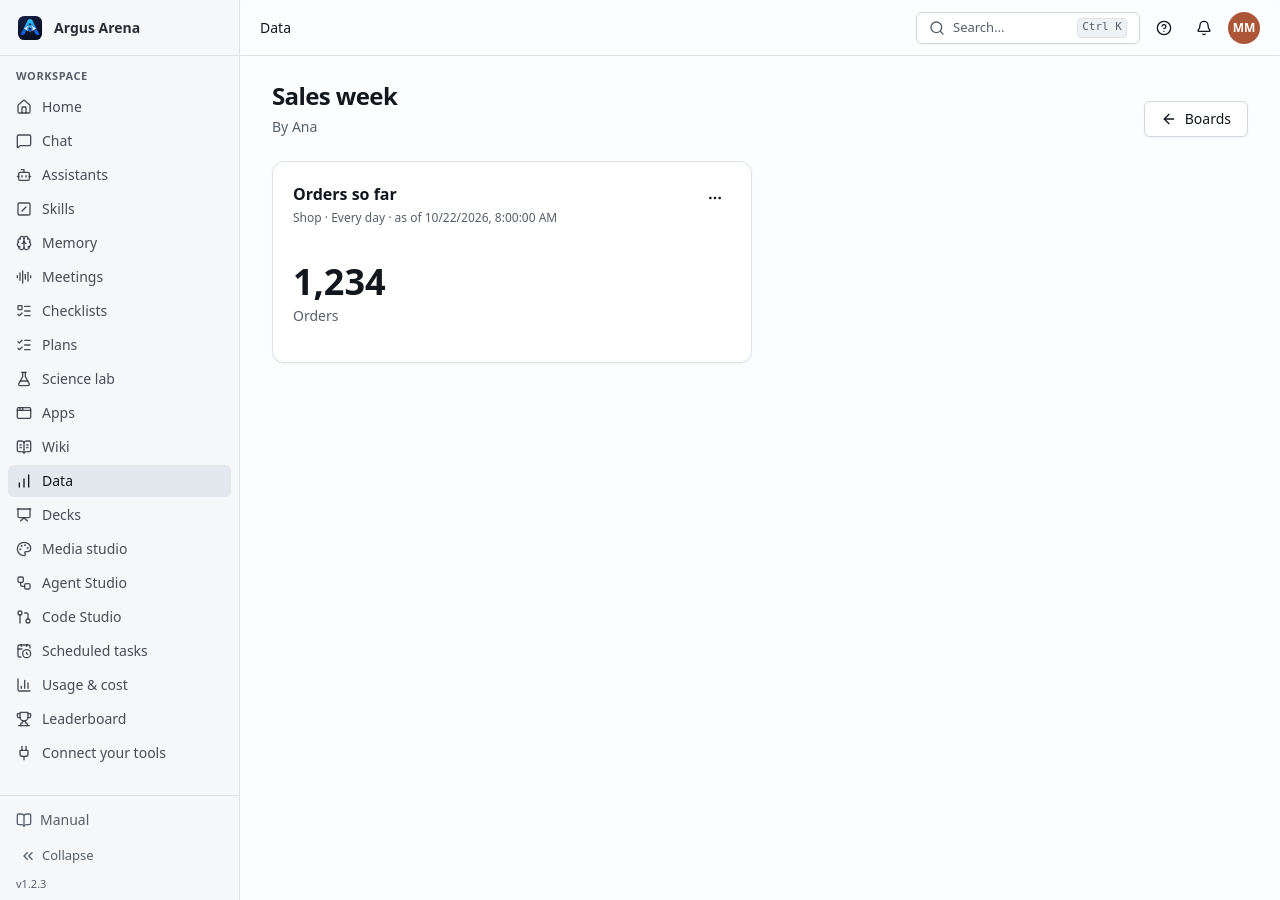
Test: ask your data › a board of someone else shows its charts, without its owner's controls
The width and height of the screenshot is (1280, 900).
Expected: the text "By Ana" is shown, [272,117,317,136]
Click the button named "More for Orders so far" at (715, 198), box [699,182,731,214]
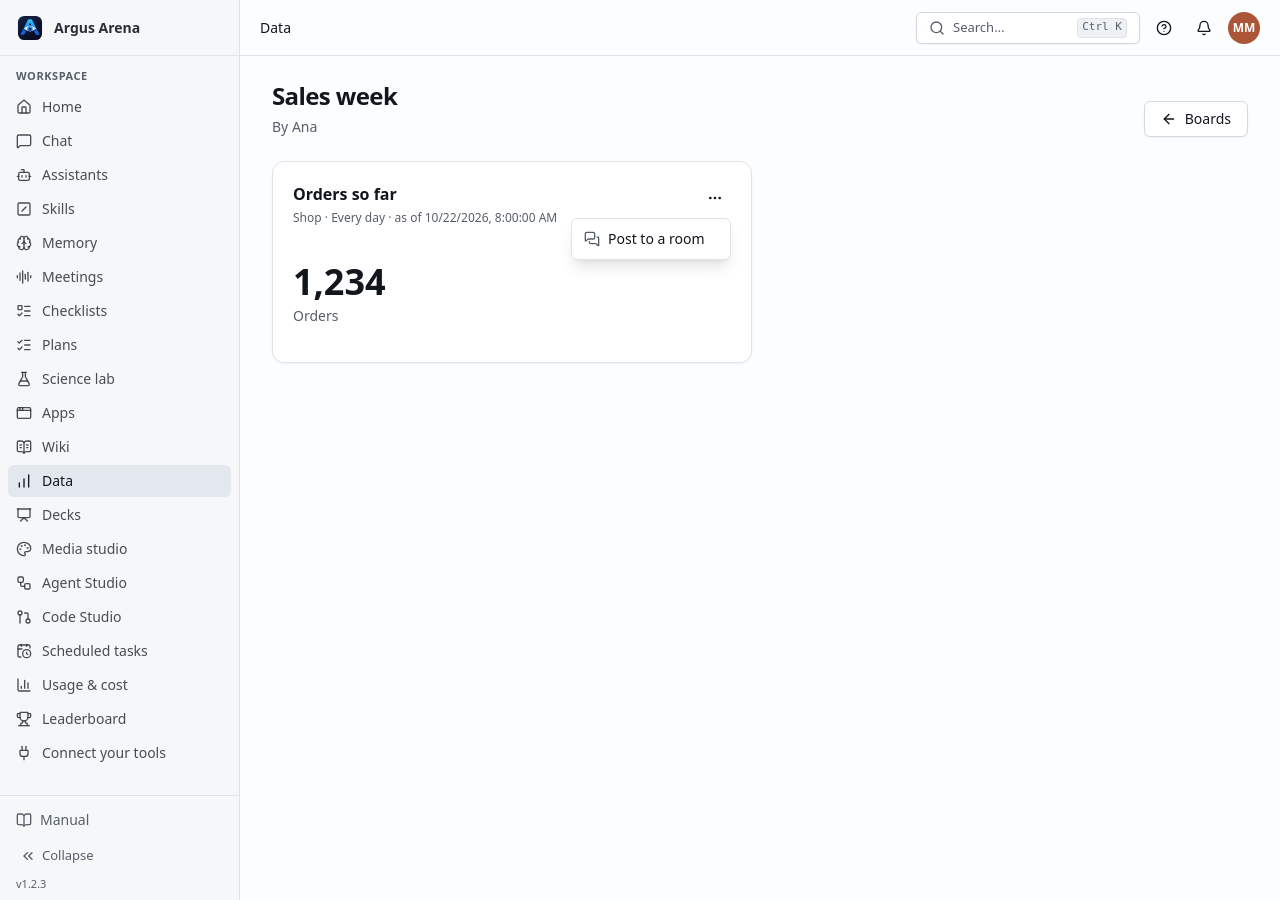
Expected: the menu item "Post to a room" is shown, [584,229,704,248]
